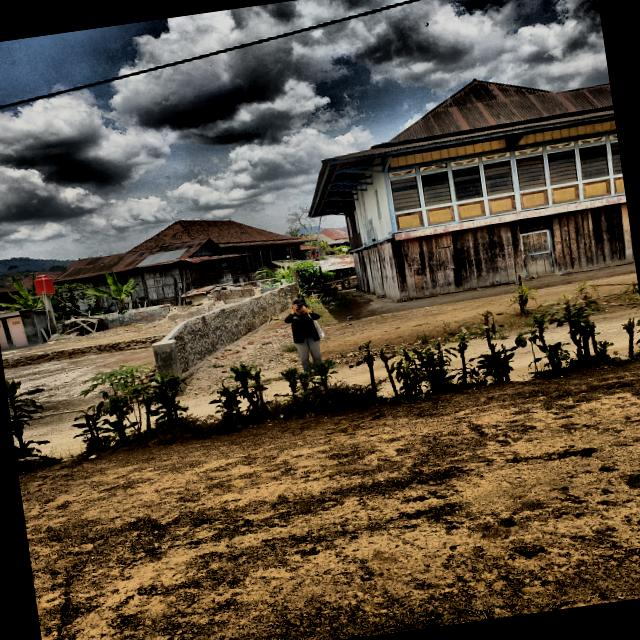door: (520, 229, 555, 278)
ornamen: (520, 189, 549, 210), (457, 200, 486, 221), (426, 205, 455, 226), (582, 179, 611, 199), (551, 184, 580, 204), (488, 195, 517, 215), (395, 211, 424, 231), (614, 176, 625, 194)
roof: (307, 78, 615, 219), (52, 238, 255, 282), (125, 220, 317, 252), (0, 285, 19, 293)
wall: (388, 117, 625, 233), (400, 202, 634, 299), (344, 173, 393, 251), (115, 262, 190, 303), (352, 241, 400, 301)
window: (420, 170, 452, 207), (390, 175, 421, 212), (483, 159, 514, 196), (516, 154, 547, 191), (452, 165, 483, 201), (547, 149, 578, 185), (579, 144, 609, 180), (610, 142, 623, 175)
